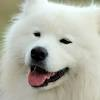dog: (19, 1, 100, 94)
